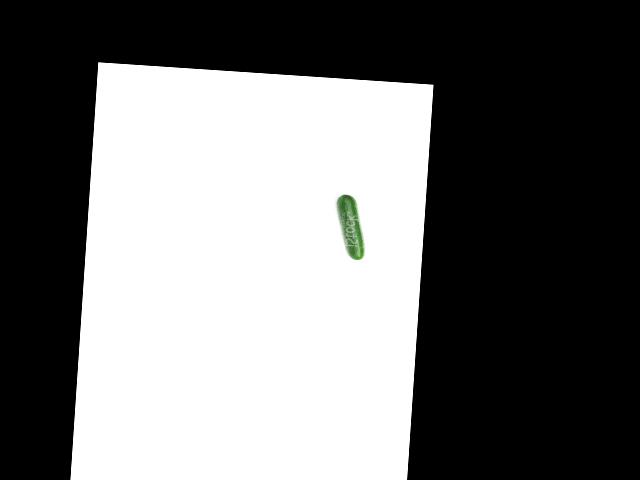cucumber: (333, 193, 368, 260)
